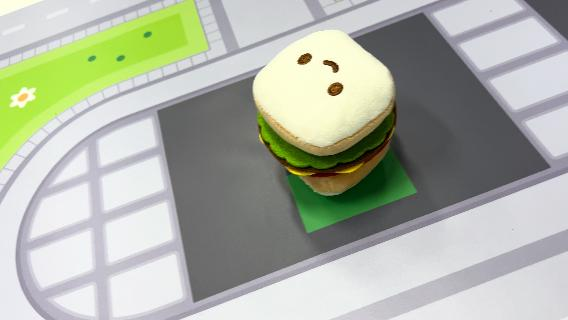sandwich: (250, 27, 400, 197)
